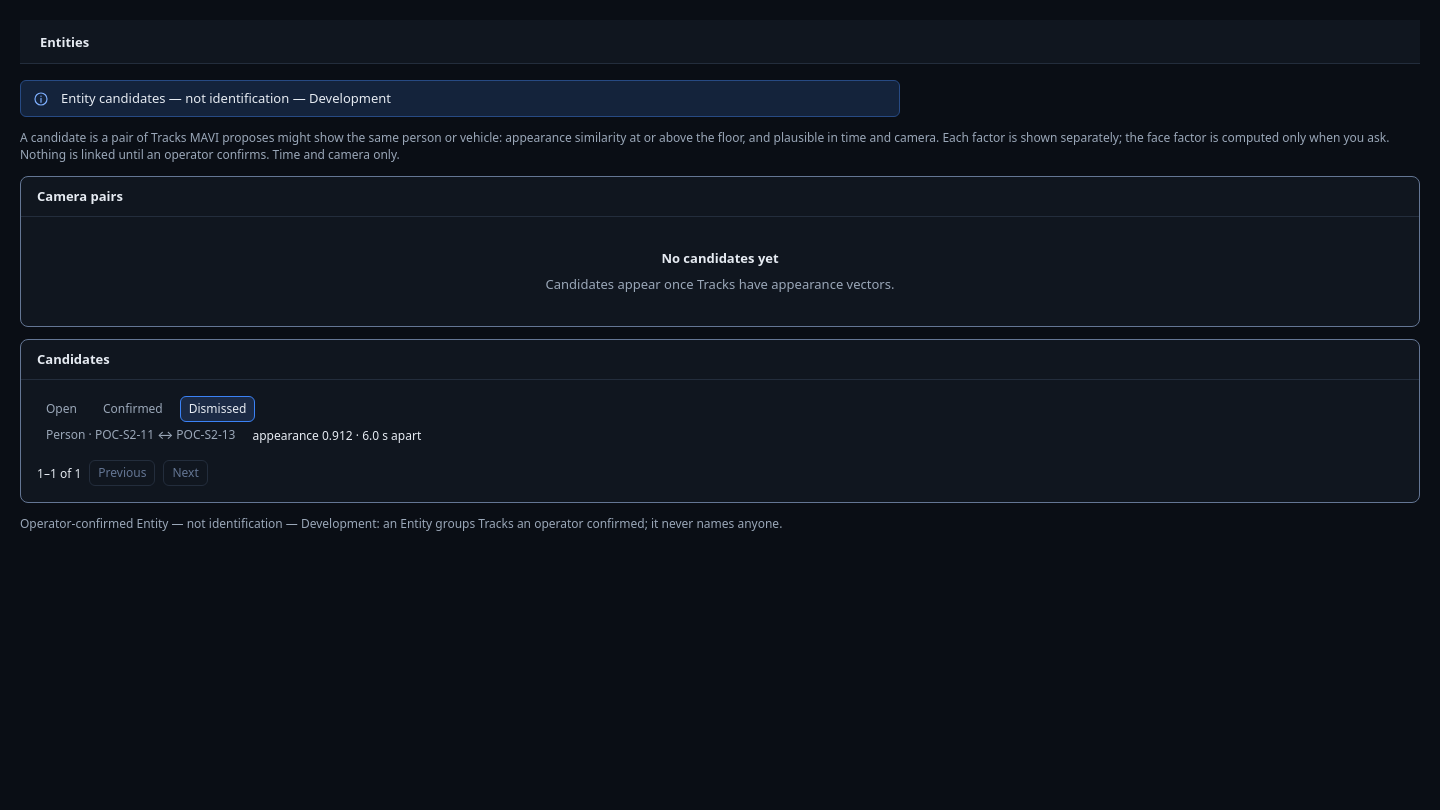
Test: PoC S11-full Entity corrections › reopens a dismissed candidate with a note through a confirm step
This screenshot has width=1440, height=810.
Click the button "Person · POC-S2-11 ↔ POC-S2-13". click: (141, 435)
box: [37,422,244,448]
(page scrolled)
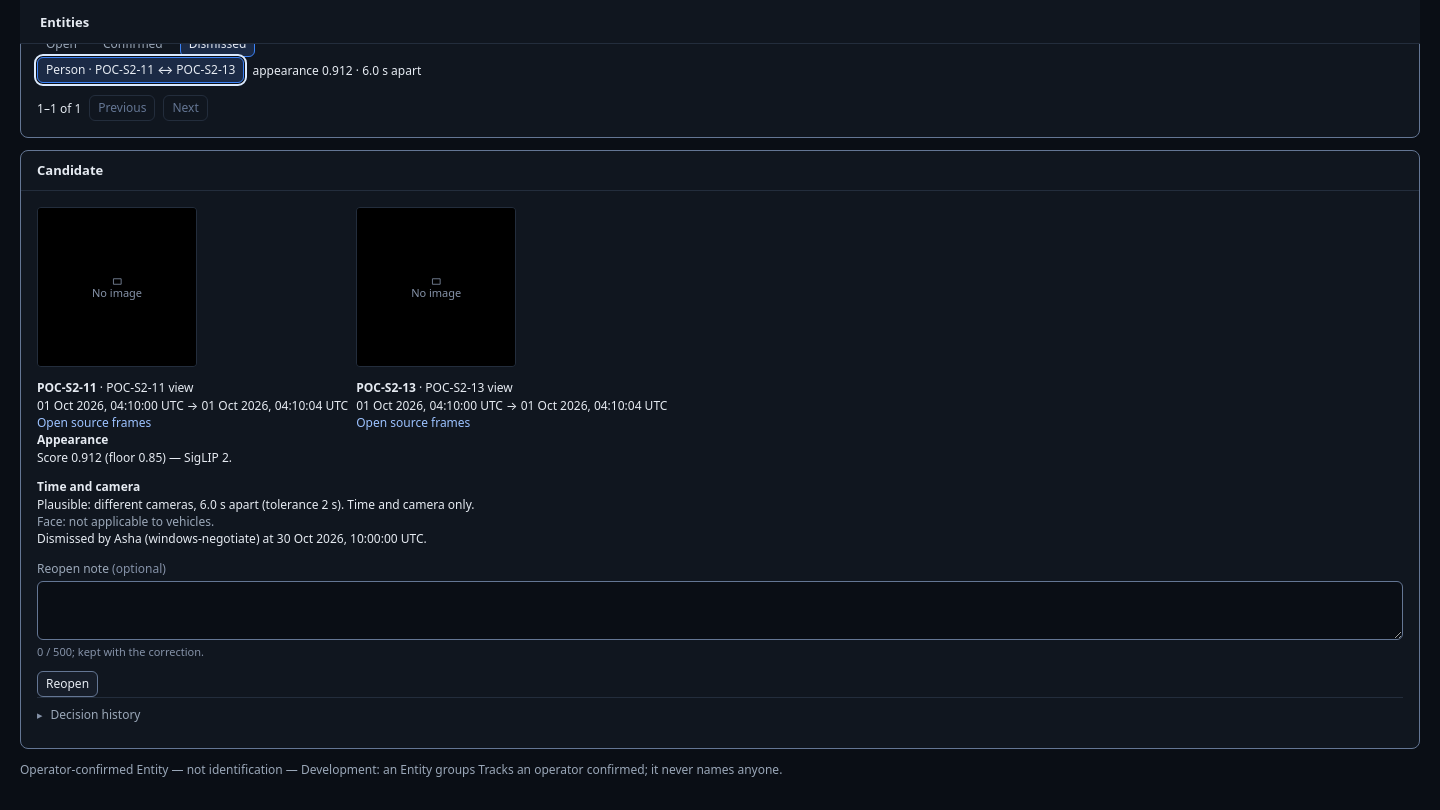
Type "dismissed by mistake" into the text box labelled "Reopen note (optional)". click: (720, 610)
box: [37,581,1403,640]
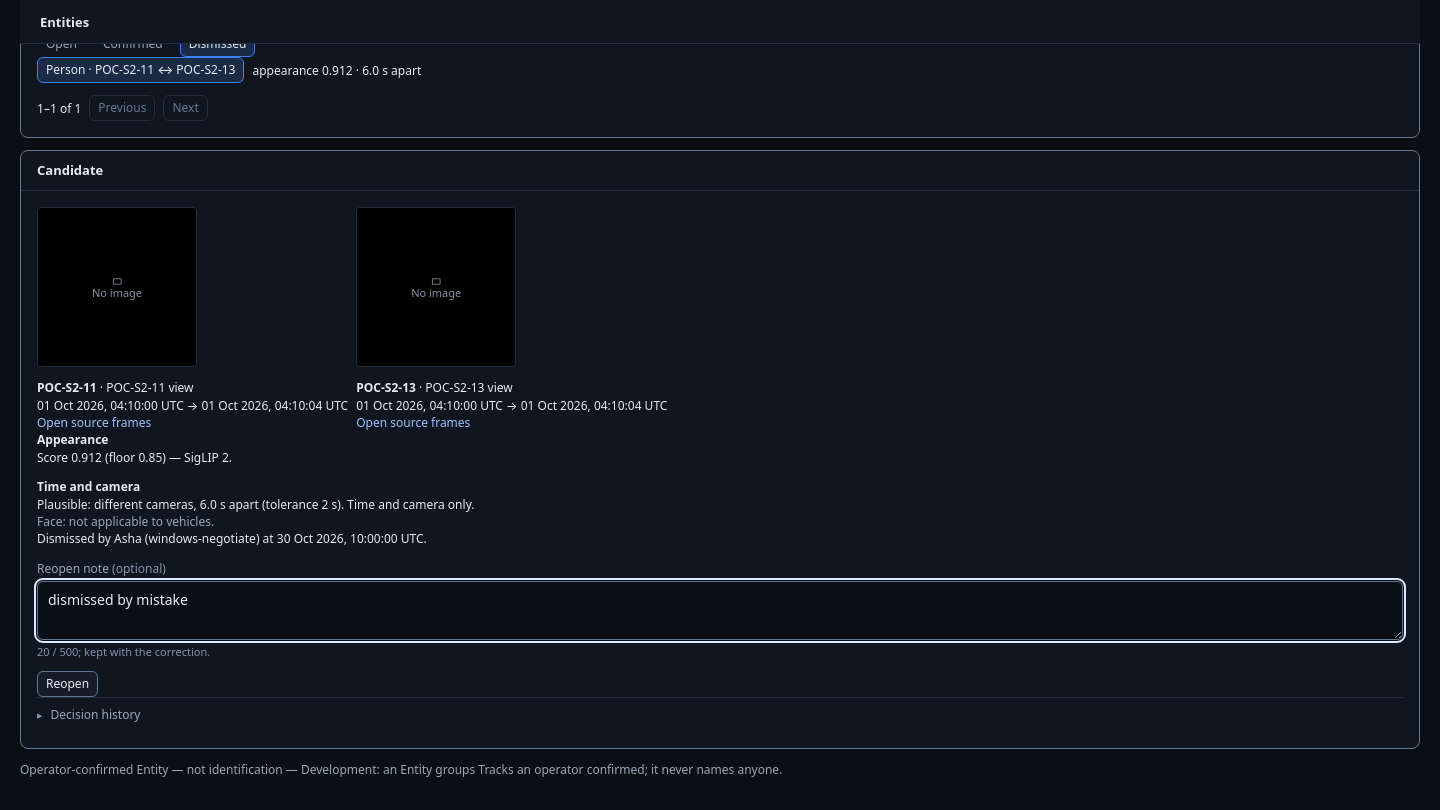
Click the button "Reopen". click: (68, 684)
box: [37,671,98,697]
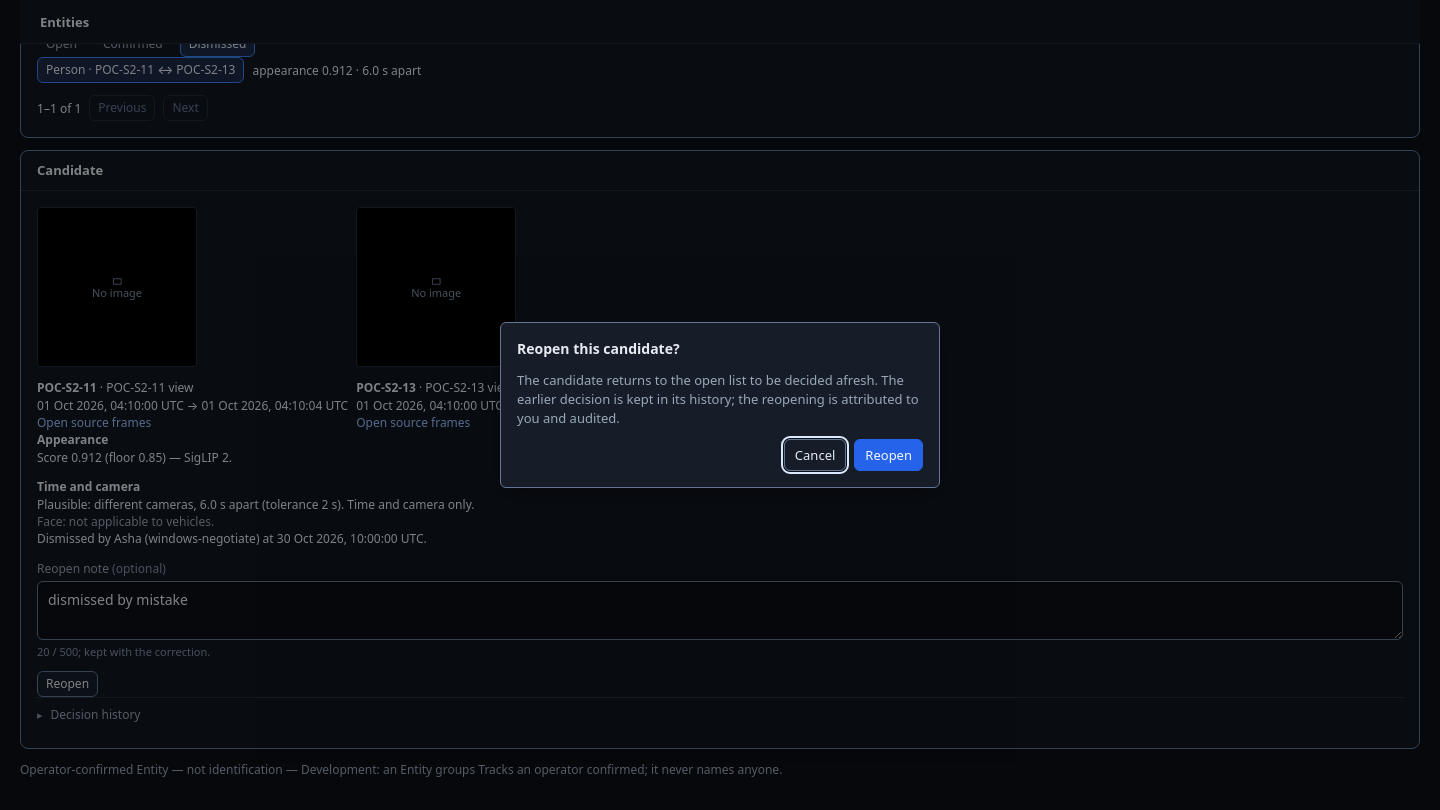
Click the button "Reopen". click: (889, 455)
box: [854,439,923,471]
(page scrolled)
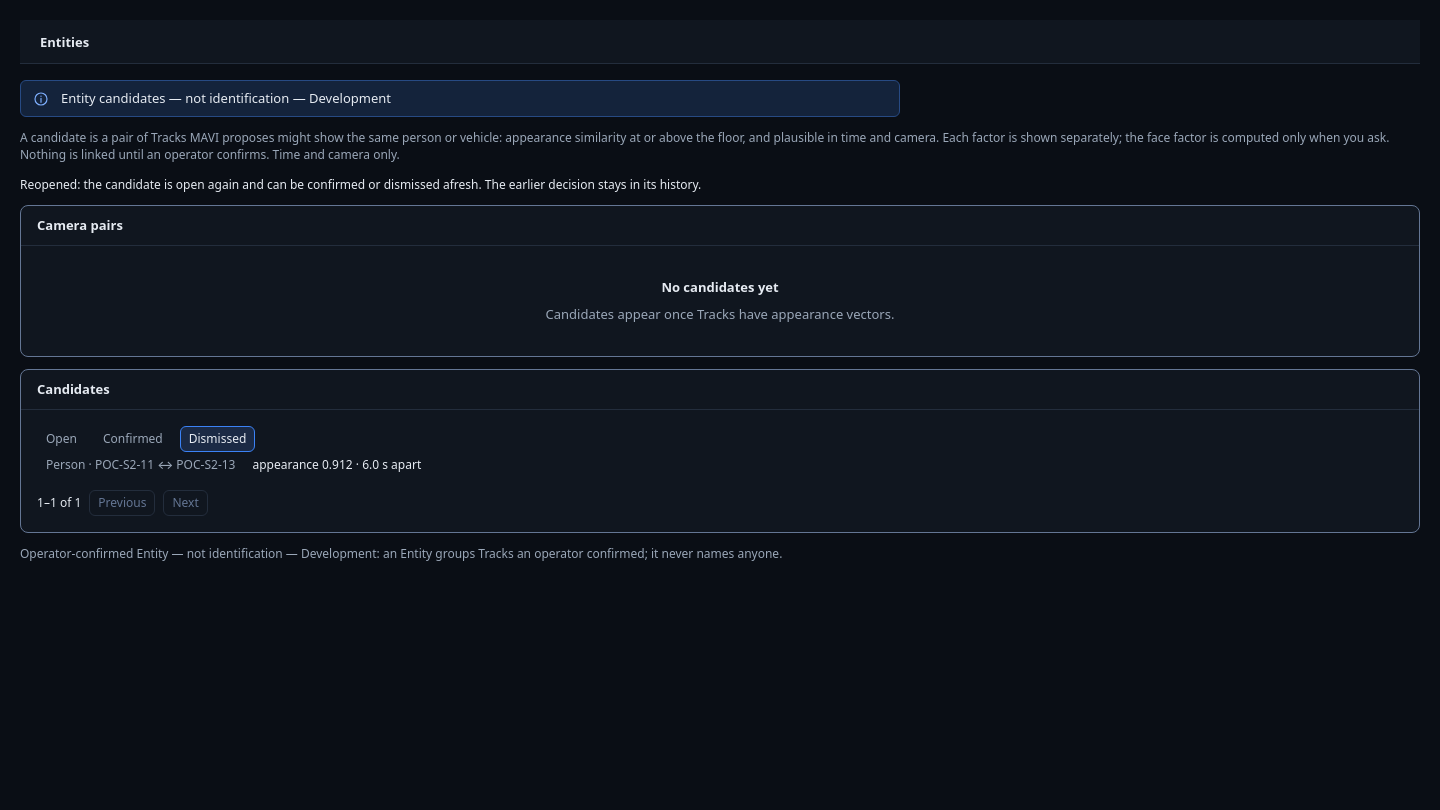
Result: the text "Reopened: the candidate is open again" is shown at [20,176,701,193]
